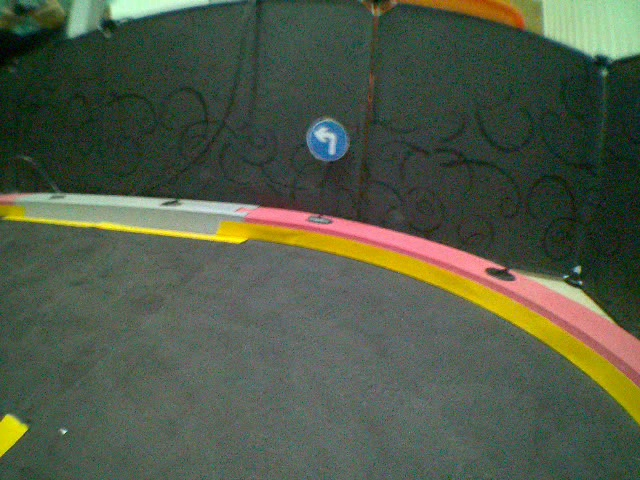turn: (305, 118, 349, 161)
